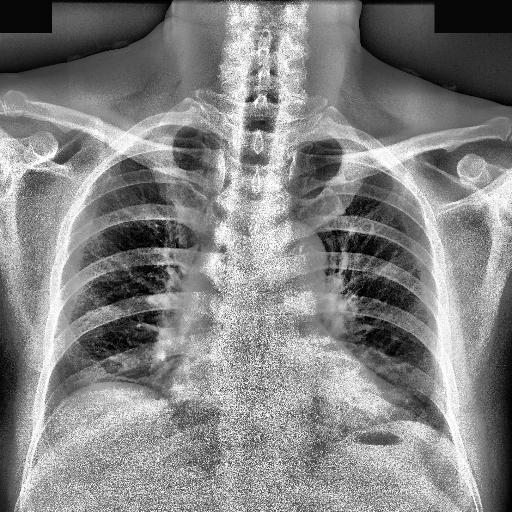0- Aortic enlargement: (244, 214, 326, 308), (260, 221, 328, 305), (255, 219, 324, 287)
3- Cardiomegaly: (160, 362, 408, 444), (164, 358, 422, 430)
